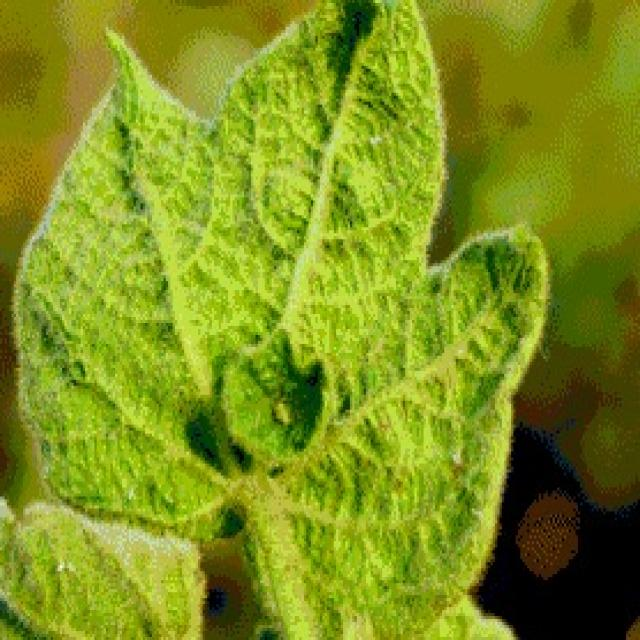Leaf Curl Virus: (92, 170, 436, 513)
